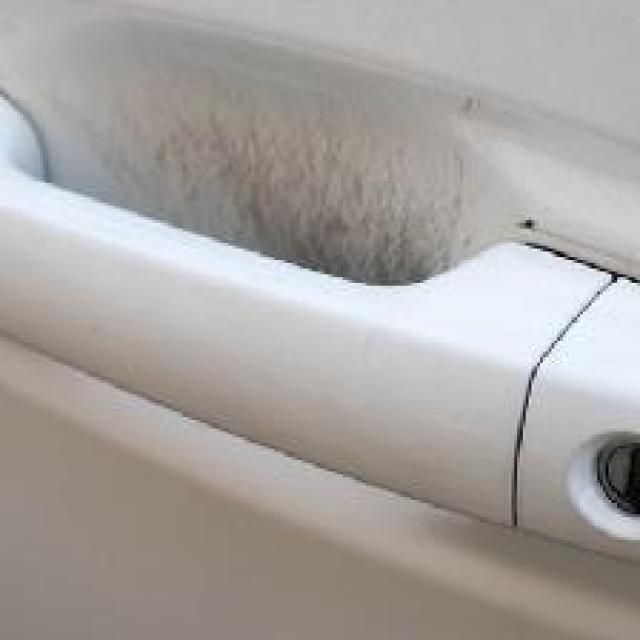damaged: (86, 83, 486, 294)
